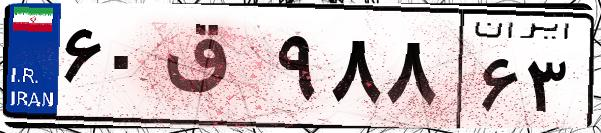0: (110, 28, 158, 98)
3: (525, 38, 570, 115)
6: (57, 26, 110, 100), (475, 38, 525, 113)
8: (385, 28, 445, 110), (330, 28, 385, 110)
9: (270, 28, 330, 110)
ق: (158, 20, 270, 120)
